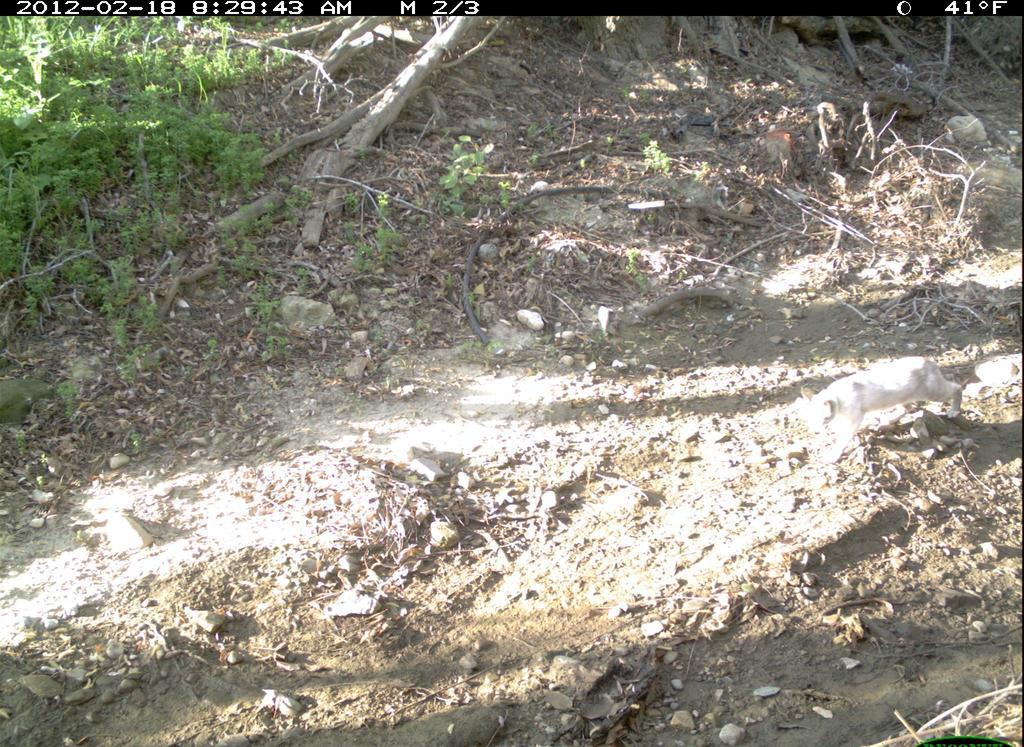cat: (792, 341, 975, 474)
